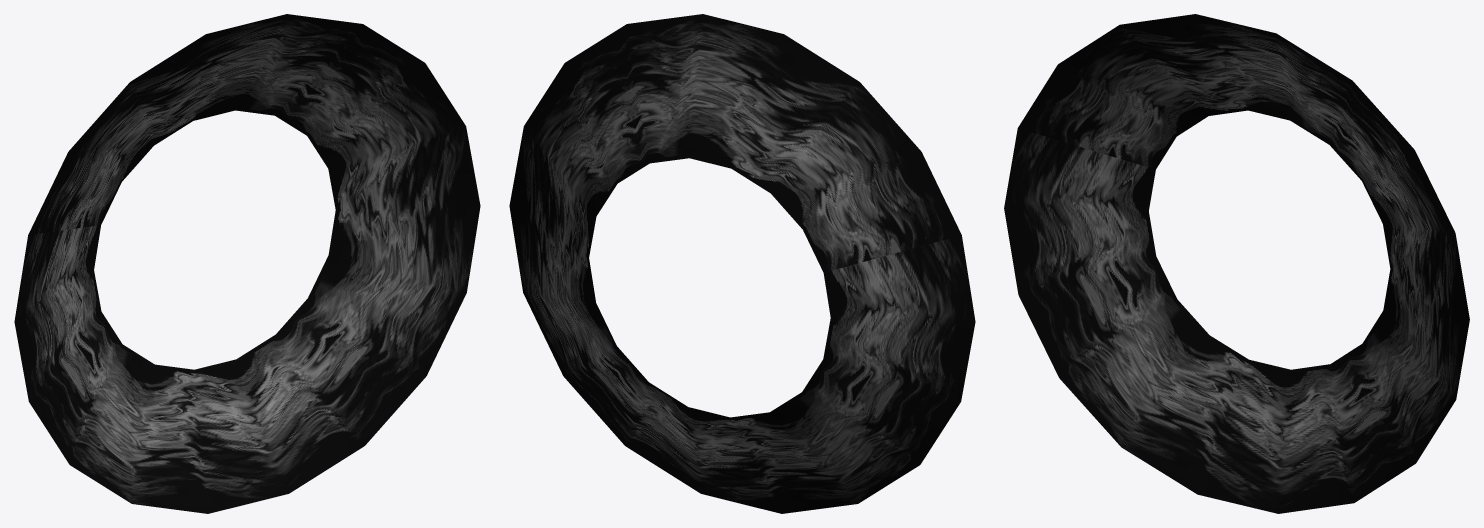
The model's file is Suhwanzin111.glb.
The picture shows the model from 3 angles, left to right: view 1: azimuth 30°, elevation 25°; view 2: azimuth 150°, elevation 25°; view 3: azimuth 330°, elevation 25°; orthographic projection.
Parts seen in each view (by area): view 1: model_Suhwanzin111; view 2: model_Suhwanzin111; view 3: model_Suhwanzin111.
Boxes of the visible parts, x1,y1,x2,y2 form: model_Suhwanzin111: [14, 14, 480, 513]; model_Suhwanzin111: [509, 14, 975, 513]; model_Suhwanzin111: [1004, 14, 1469, 513].
Size of the model in its own units: 3.06 by 3.02 by 0.371.
1 material, 1 textured.
